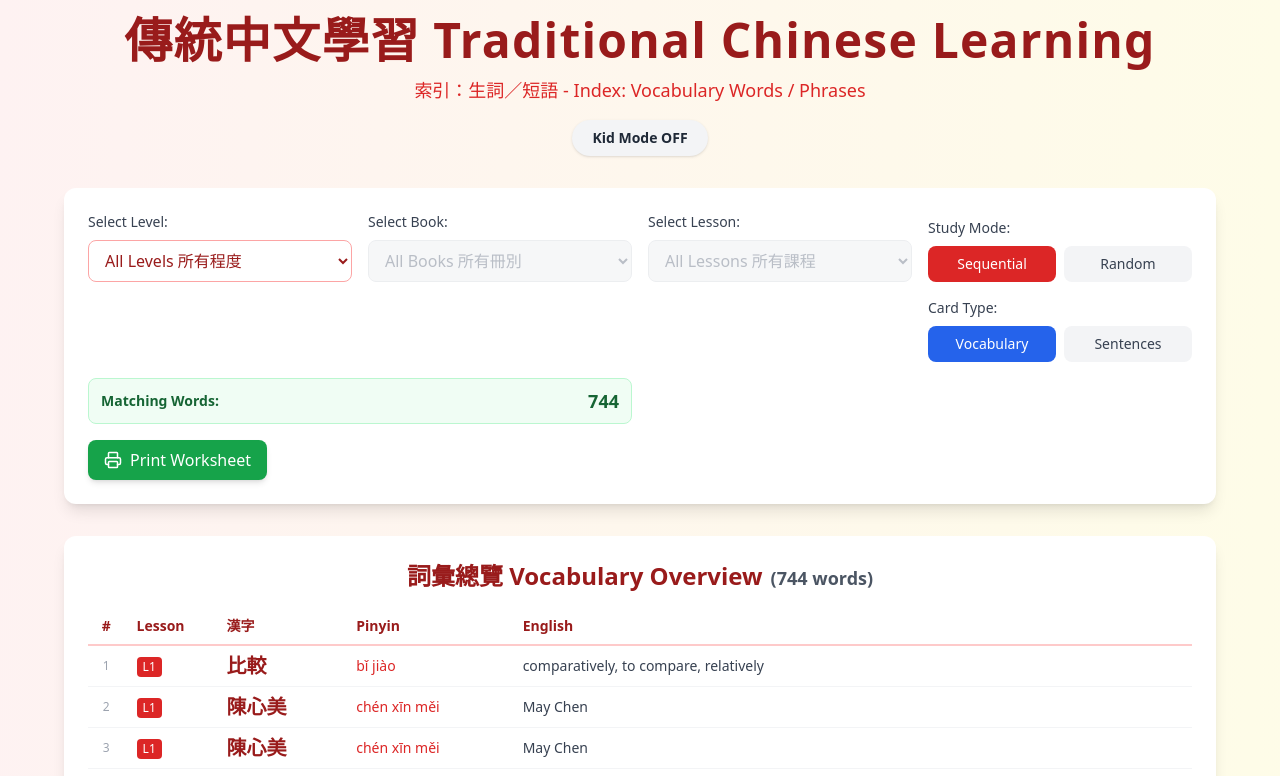
Test: ChineseLearningApp filters › filter cascade resets book and lesson to all and disables lesson appropriately
Select "Level 2" in the dropdown labelled "Select Level:" at {"x": 220, "y": 261}, box [88,240,352,282]
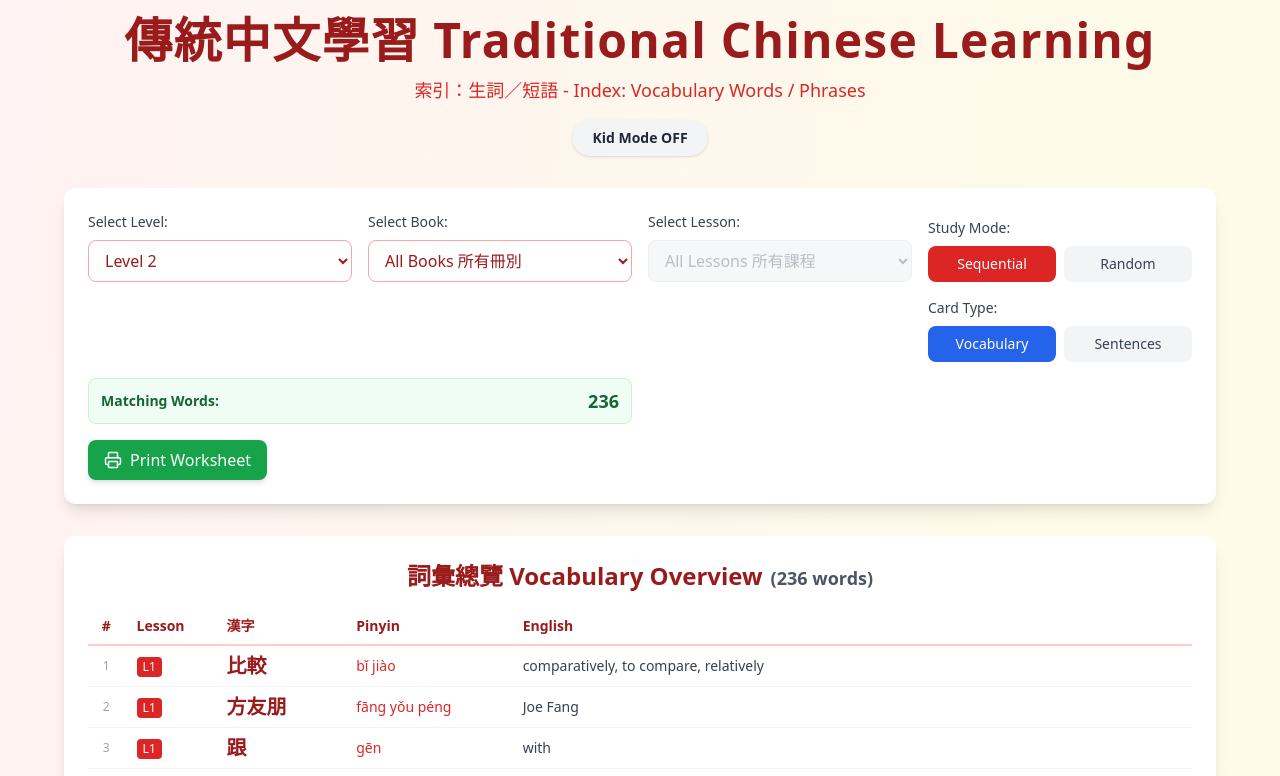
Now the dropdown labelled "Select Book:" is enabled
Select "Book A" in the dropdown labelled "Select Book:" at {"x": 500, "y": 261}, box [368,240,632,282]
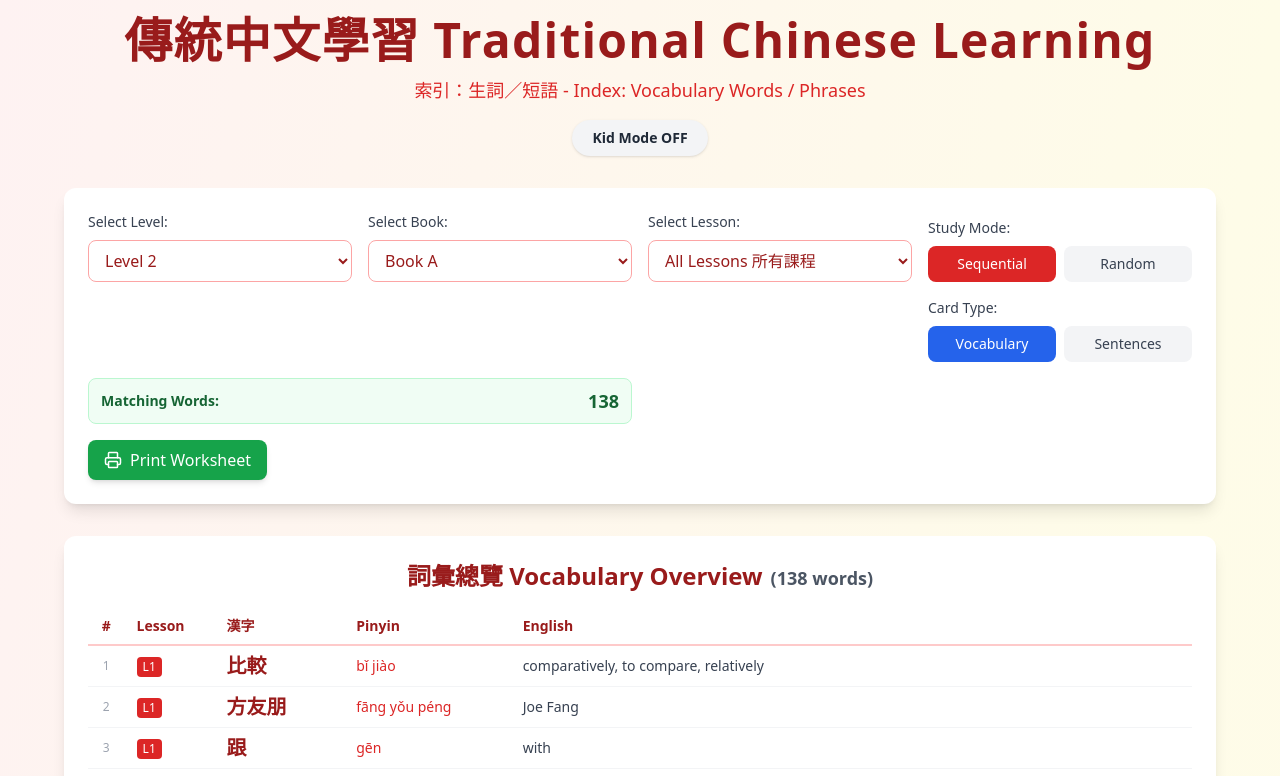
Now the dropdown labelled "Select Lesson:" is enabled
Select "Test 1 測驗1" in the dropdown labelled "Select Lesson:" at {"x": 780, "y": 261}, box [648,240,912,282]
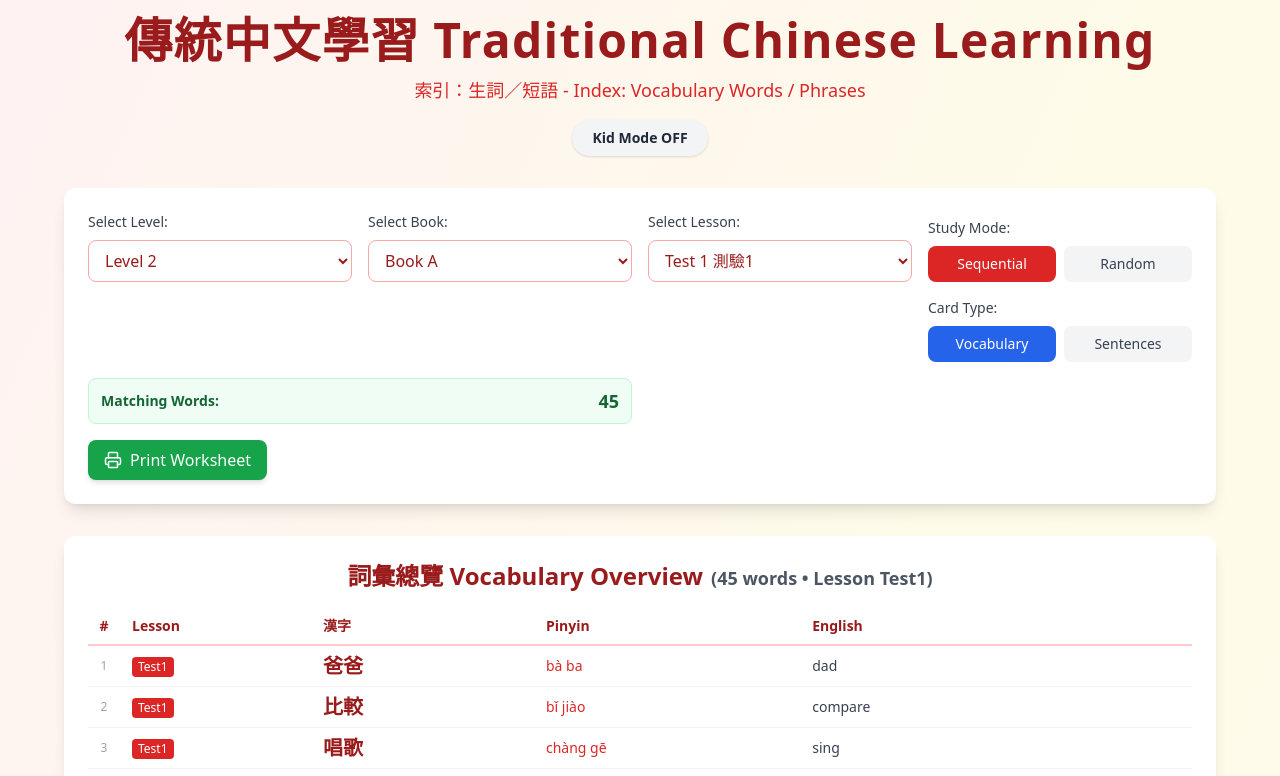
Select "Level 1" in the dropdown labelled "Select Level:" at {"x": 220, "y": 261}, box [88,240,352,282]
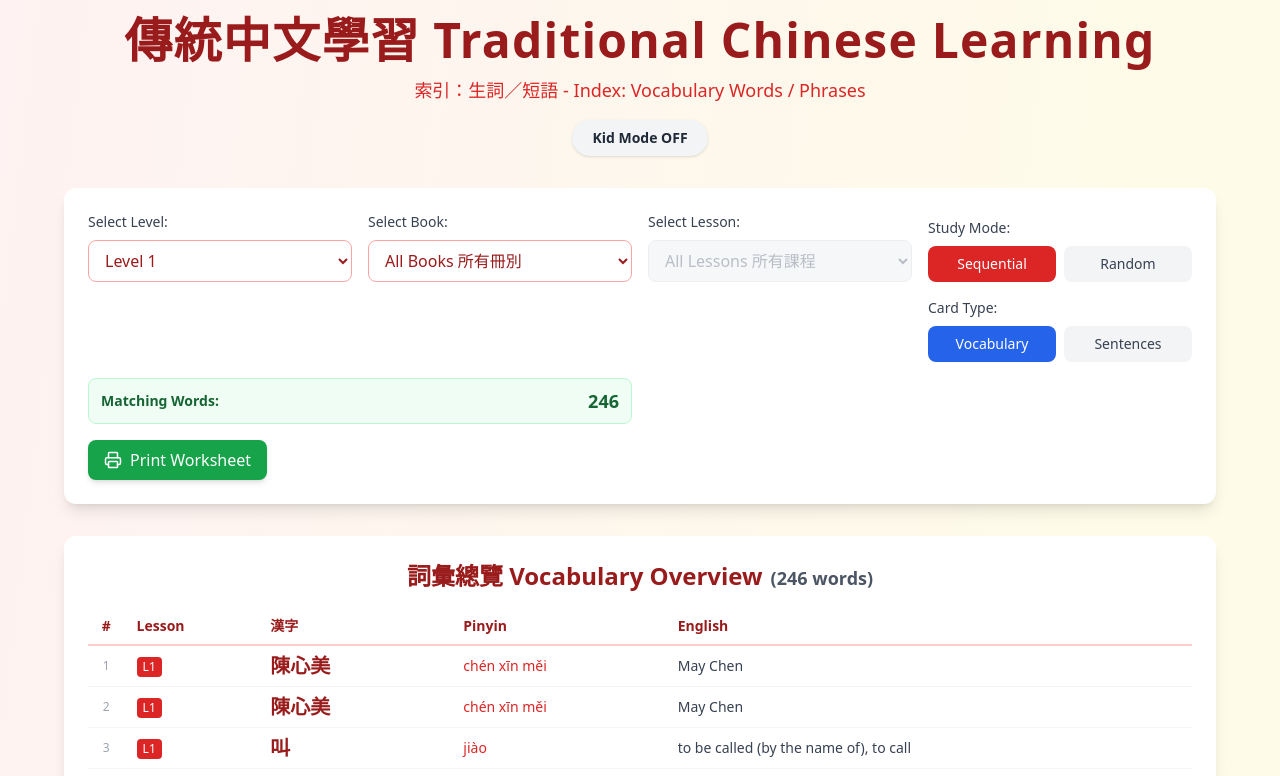
Now the dropdown labelled "Select Lesson:" is disabled, box [648,240,912,282]
